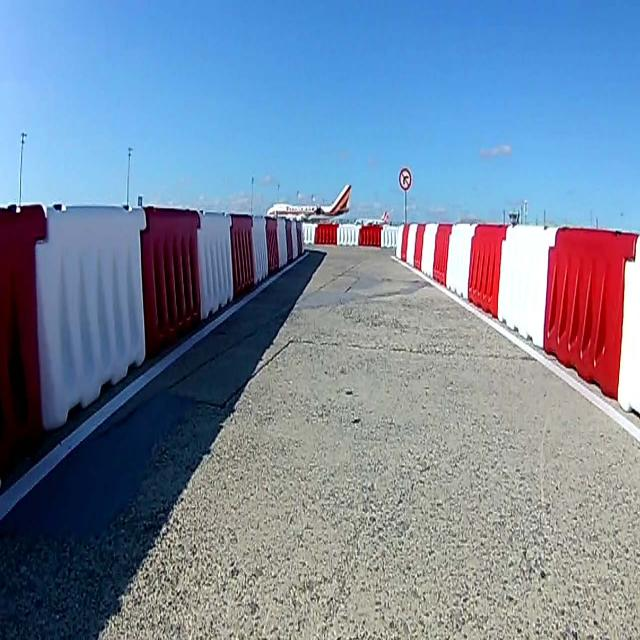sagadonulmez: (398, 169, 412, 191)
